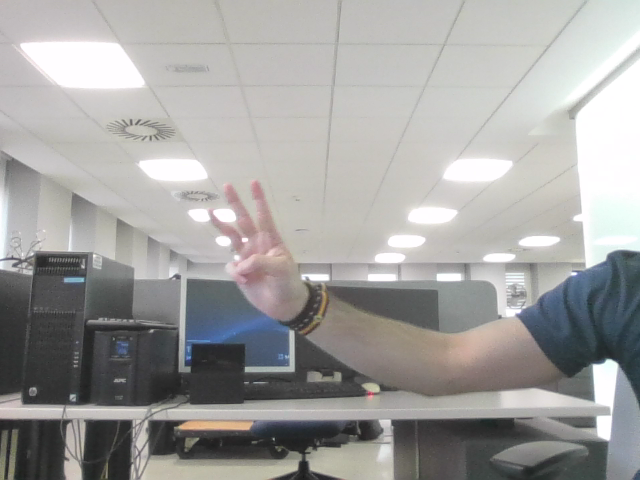3Dedos: (213, 190, 284, 280)
